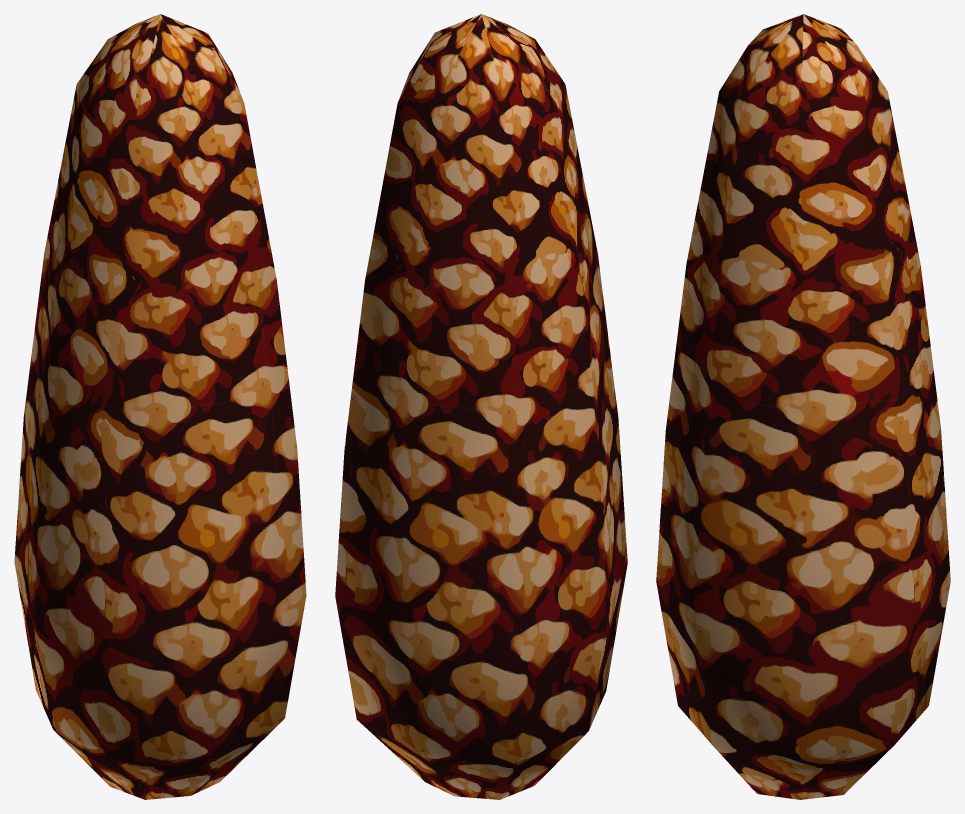
The model's file is SM_ENV_pinecone_01.fbx.
3 views of the same model, side by side, from view 1: azimuth 30°, elevation 25°; view 2: azimuth 150°, elevation 25°; view 3: azimuth 270°, elevation 25° (orthographic).
Visible parts, largest first — view 1: SM_ENV_pinecone_01; view 2: SM_ENV_pinecone_01; view 3: SM_ENV_pinecone_01.
Boxes of the visible parts, x1,y1,x2,y2 form: SM_ENV_pinecone_01: [14, 14, 306, 799]; SM_ENV_pinecone_01: [335, 14, 627, 799]; SM_ENV_pinecone_01: [656, 14, 950, 799].
Size of the model in its own units: 6.31 by 18.5 by 6.38.
